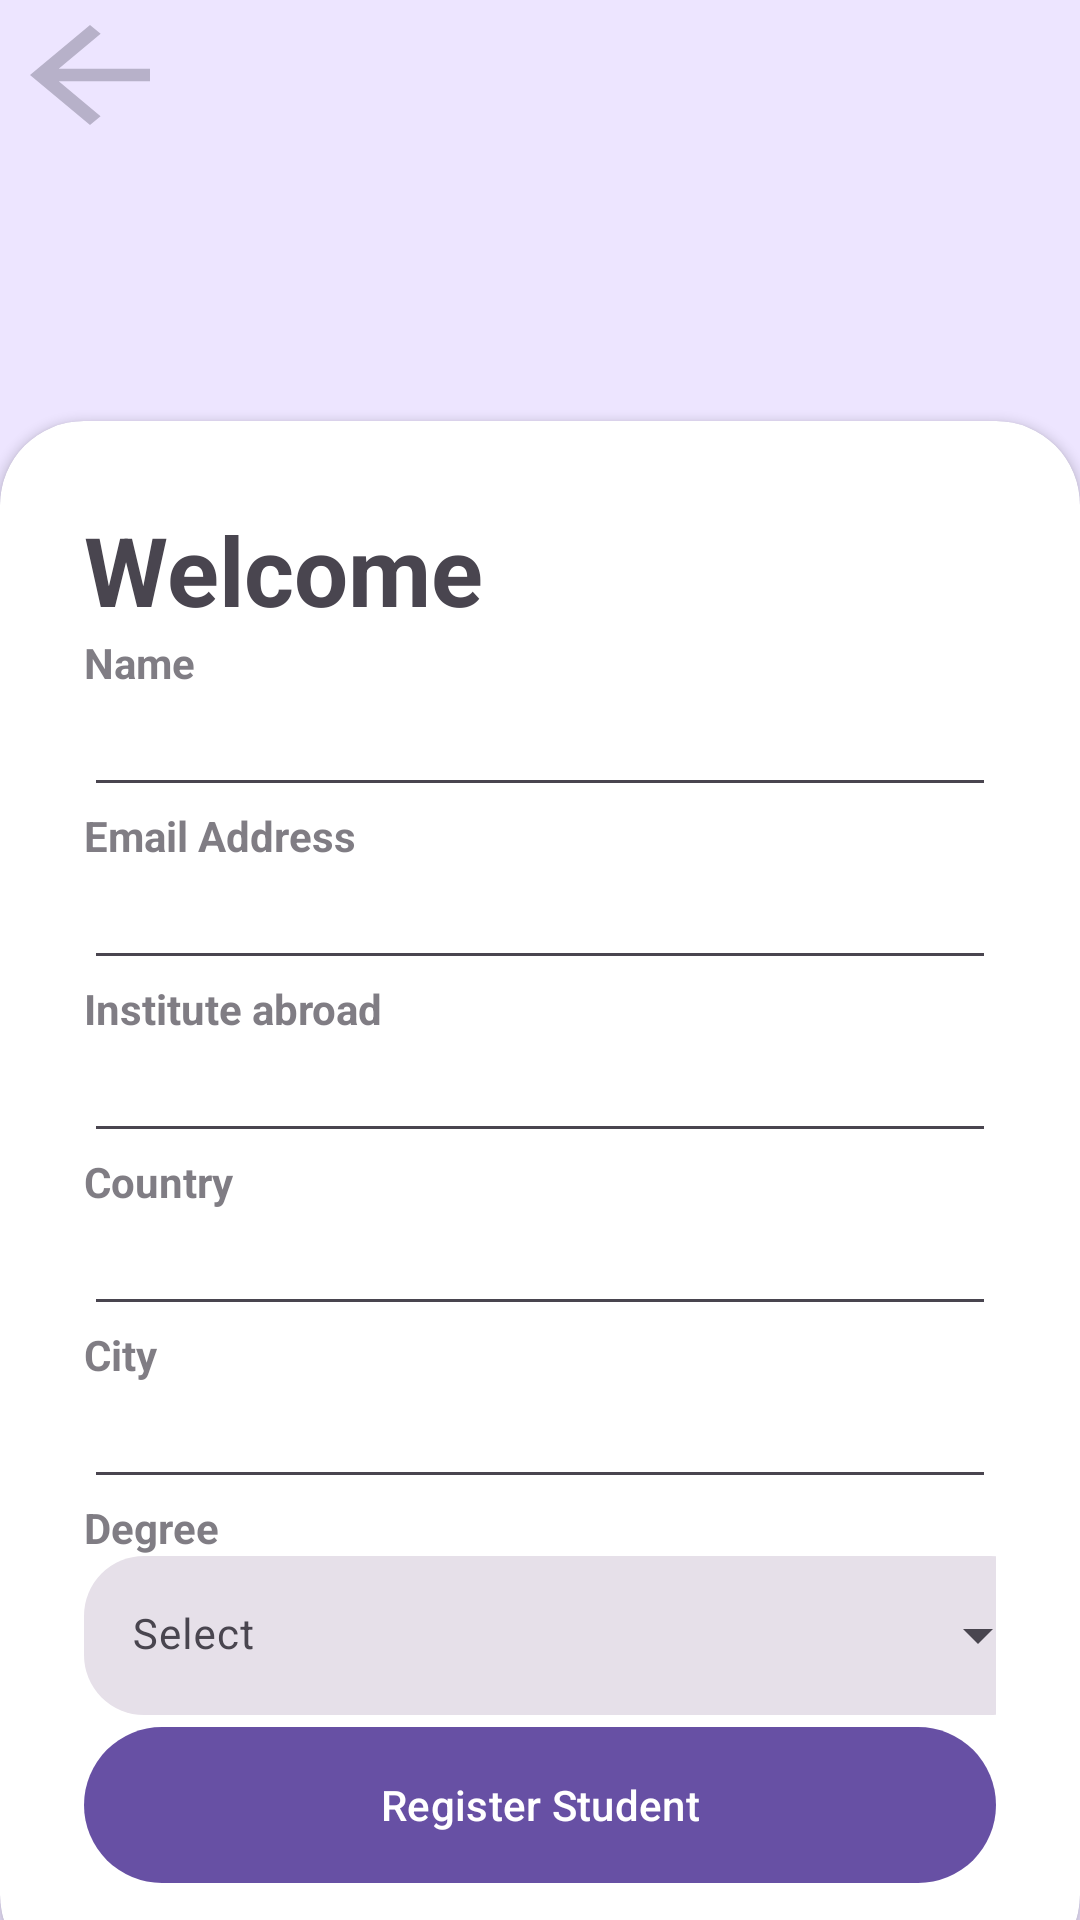

Named icons in this screenshot (1080px x 1920px) and their centers, (x,y):
arrow back: (90,75)
